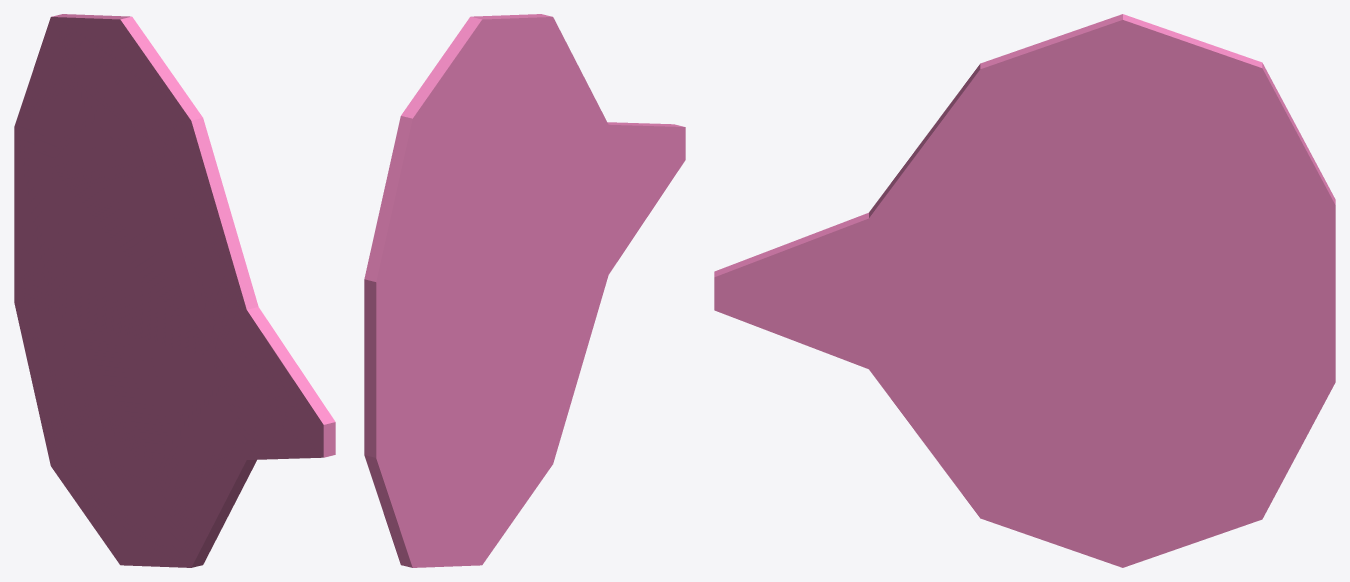
File: redOnionHalfInside.obj
The picture shows the model from 3 angles, left to right: view 1: azimuth 30°, elevation 25°; view 2: azimuth 150°, elevation 25°; view 3: azimuth 270°, elevation 25°; orthographic projection.
Visible parts, largest first — view 1: onionHalf.002; view 2: onionHalf.002; view 3: onionHalf.002.
Part boxes in pixels (x1,y1,x2,y2): onionHalf.002: [14, 14, 335, 567]; onionHalf.002: [364, 14, 685, 567]; onionHalf.002: [714, 14, 1335, 567].
Size of the model in its own units: 0.00492 by 0.2163 by 0.2223.
